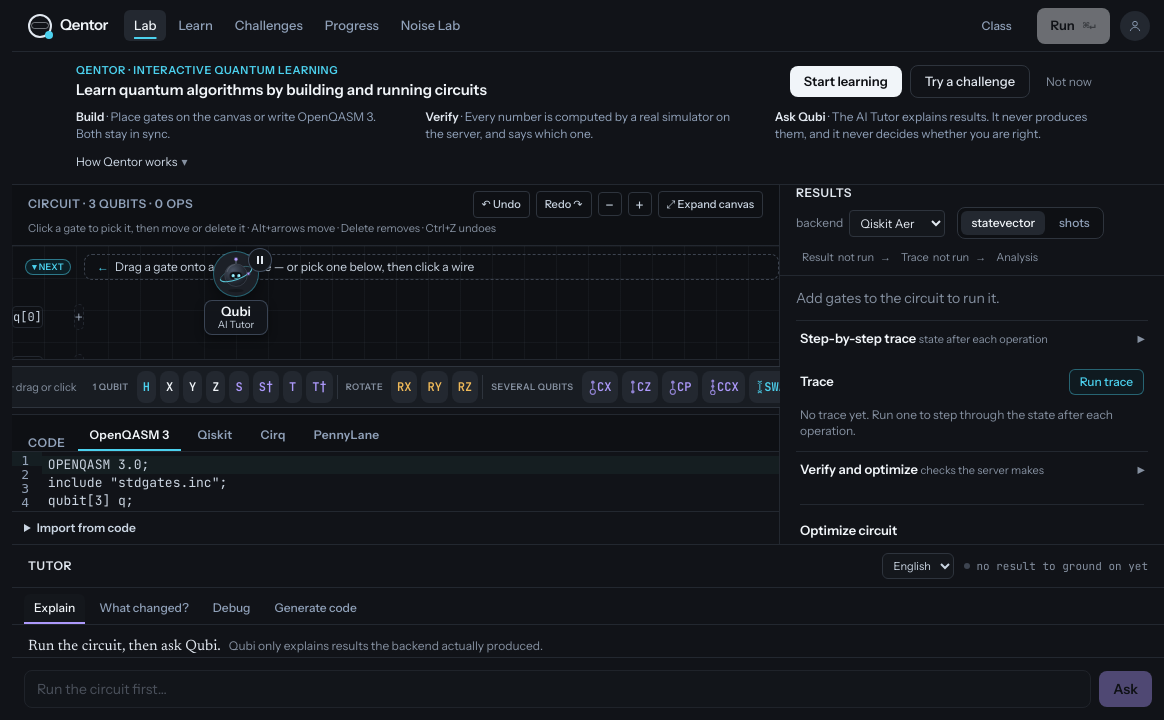
Test case: the welcome entry › "Not now" dismisses it and it stays dismissed after a reload
Click the button "Not now" at [1069, 82], box [1038, 66, 1100, 96]
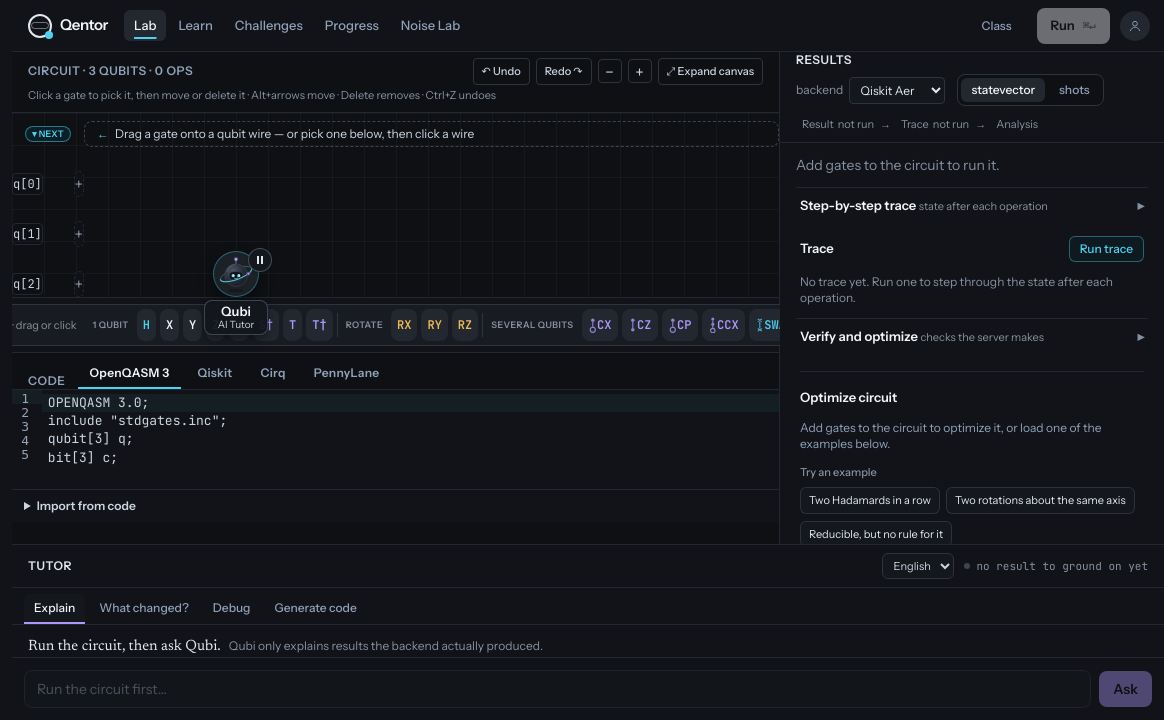
Expected: the element with test id "welcome" is gone
